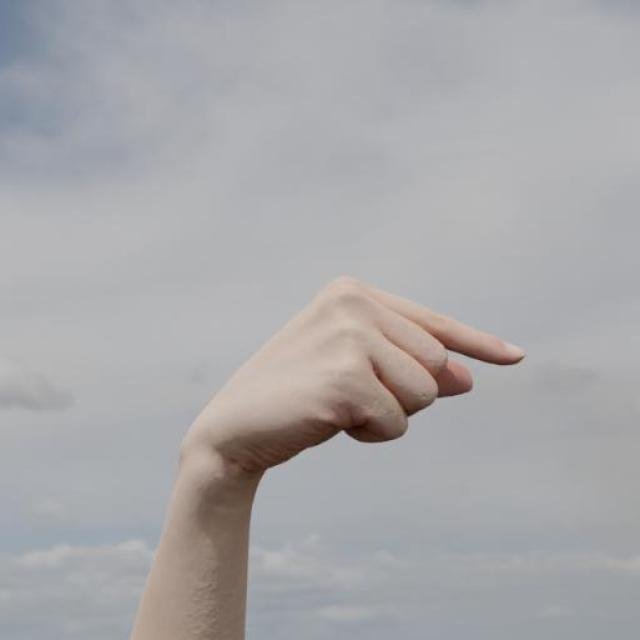G: (175, 273, 529, 462)
